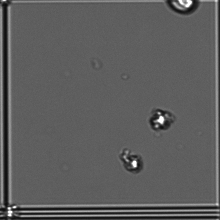Living Cell: (116, 149, 147, 176), (169, 1, 199, 27), (147, 106, 168, 138)
